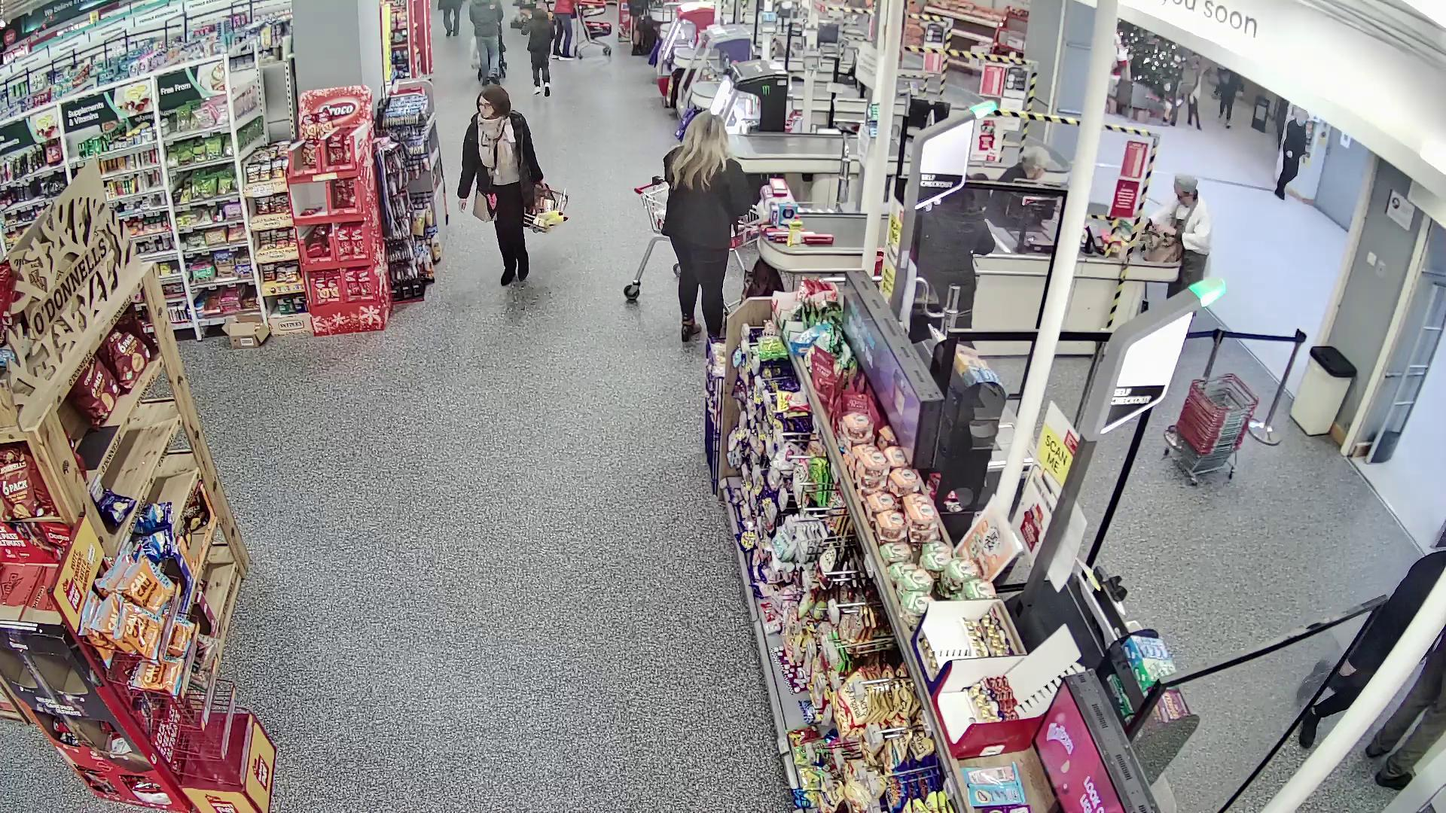backpack-or-handbag: (472, 184, 499, 223)
filled-basket: (520, 183, 569, 235)
person: (459, 84, 544, 288)
person-with-basket-trolly-and-backpack-handbag: (459, 83, 569, 287)
